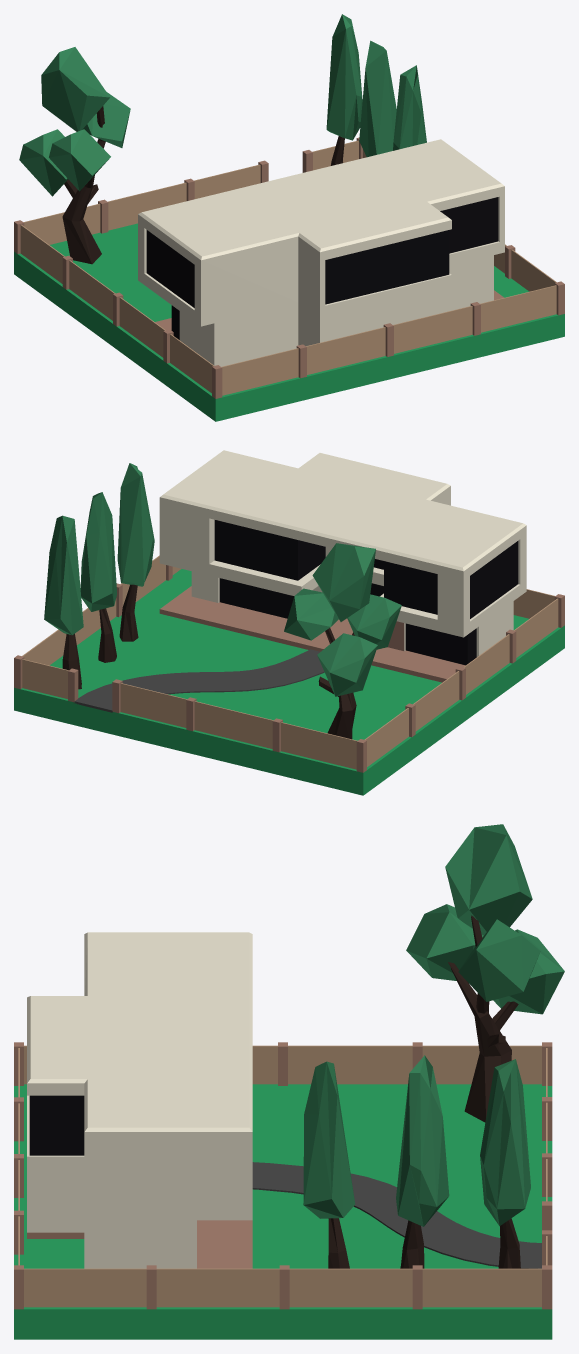
The model's file is uploads_files_1833084_FHome1.FBX.
3 renders of one model, top to bottom at view 1: azimuth 30°, elevation 25°; view 2: azimuth 150°, elevation 25°; view 3: azimuth 270°, elevation 25°, orthographic. The views are drawn at different scales.
Parts seen in each view (by area): view 1: Home 1; view 2: Home 1; view 3: Home 1.
Part boxes in pixels (x1=…): Home 1: x1=14, y1=14, x2=564, y2=421; Home 1: x1=14, y1=450, x2=564, y2=795; Home 1: x1=14, y1=824, x2=564, y2=1339.
Bounding box in the file's own units: 16 × 10.04 × 16.38.
